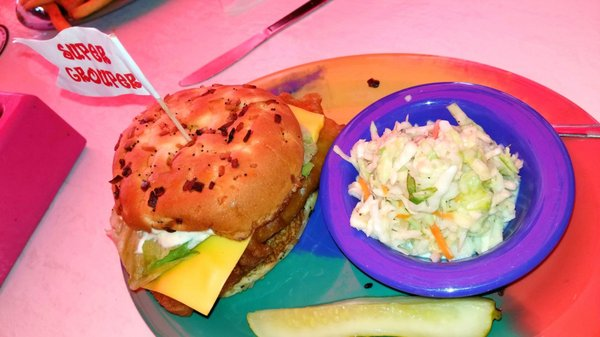burger: (180, 0, 329, 88)
soup: (107, 81, 332, 318)
sushi: (320, 81, 576, 298)
